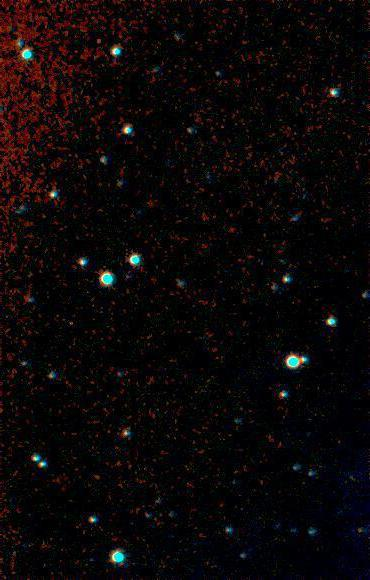star: (80, 462, 110, 492)
